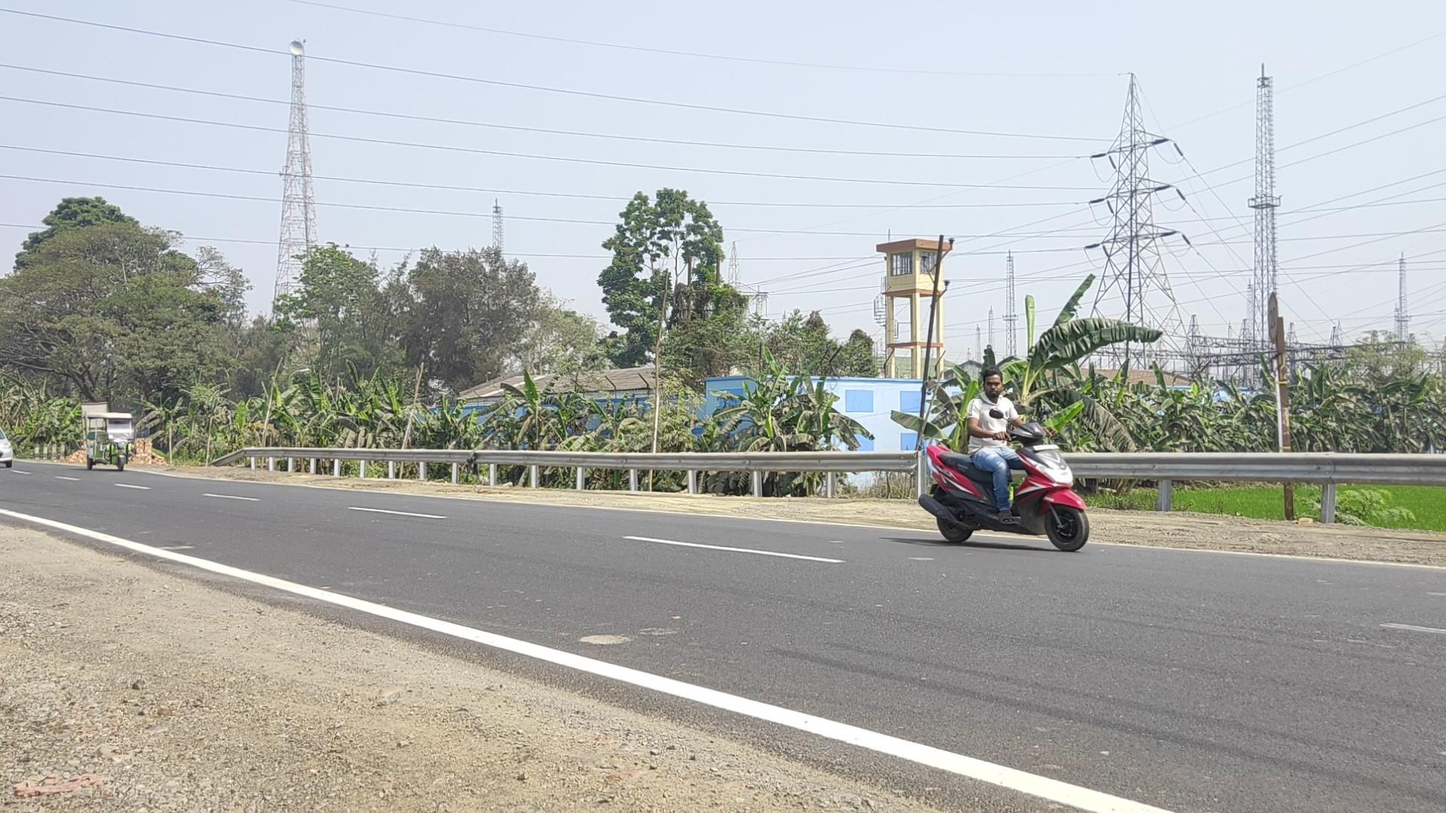Auto: (86, 412, 134, 473)
bike: (920, 367, 1090, 552)
